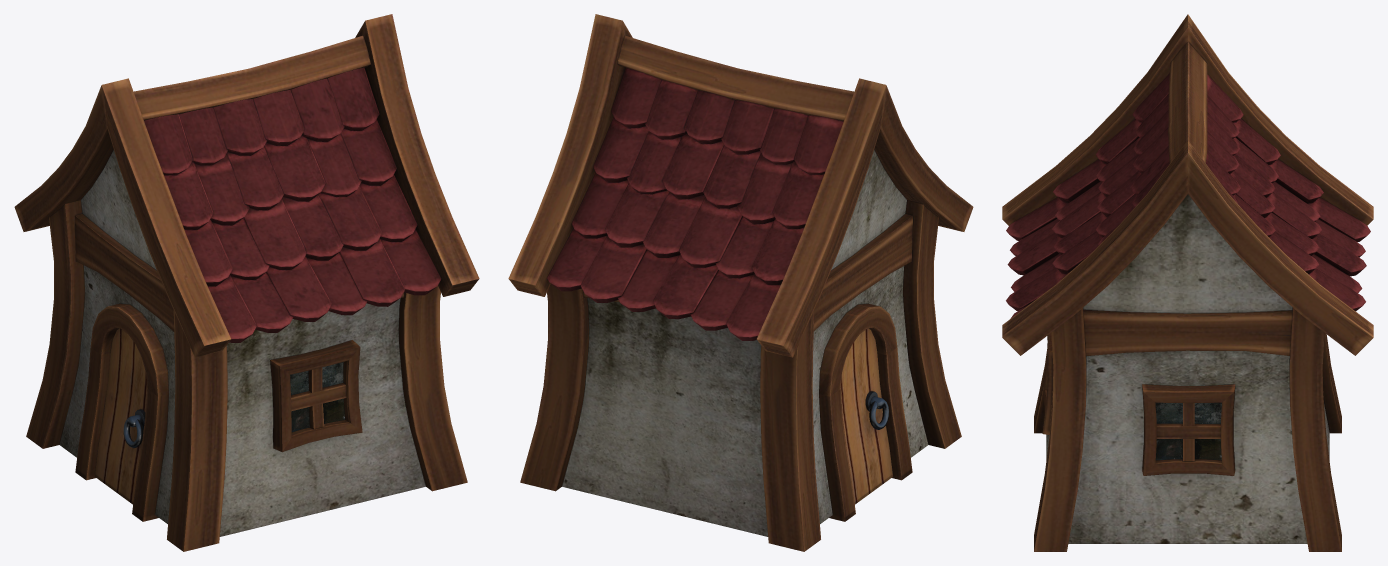
File: house.glb
The picture shows the model from 3 angles, left to right: view 1: azimuth 30°, elevation 25°; view 2: azimuth 150°, elevation 25°; view 3: azimuth 270°, elevation 25°; orthographic projection. The views are drawn at different scales.
Visible parts, largest first — view 1: test_house_walls_1; view 2: test_house_walls_1; view 3: test_house_walls_1.
Part boxes in pixels (x1,y1,x2,y2): test_house_walls_1: (14, 14, 479, 551); test_house_walls_1: (508, 14, 973, 551); test_house_walls_1: (1002, 14, 1373, 551).
Size of the model in its own units: 119 by 161 by 134.
1 material, 1 textured.
